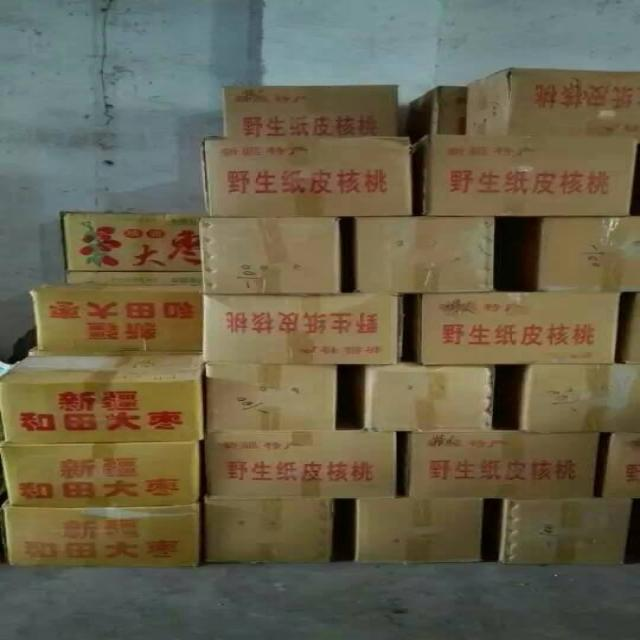box: (410, 135, 638, 217), (0, 354, 205, 442), (203, 137, 416, 217), (409, 291, 628, 366), (203, 429, 408, 500), (205, 295, 407, 365), (408, 430, 602, 500), (1, 501, 204, 565), (0, 440, 204, 503), (31, 281, 205, 354), (199, 217, 344, 298), (351, 217, 501, 295), (468, 69, 640, 136), (507, 216, 639, 293), (222, 84, 401, 139), (341, 497, 485, 565), (204, 362, 343, 431), (203, 497, 341, 564), (499, 500, 633, 565), (360, 366, 491, 432), (519, 363, 640, 433), (64, 213, 207, 271), (401, 86, 473, 137), (600, 433, 640, 500), (68, 270, 209, 282)
